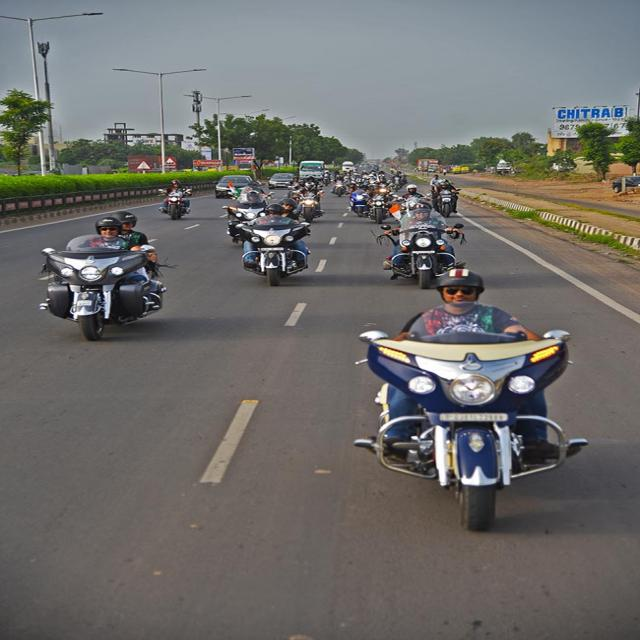motorcycle: (354, 269, 586, 530), (39, 211, 167, 341), (380, 208, 463, 289), (236, 204, 309, 286), (159, 180, 189, 220)
